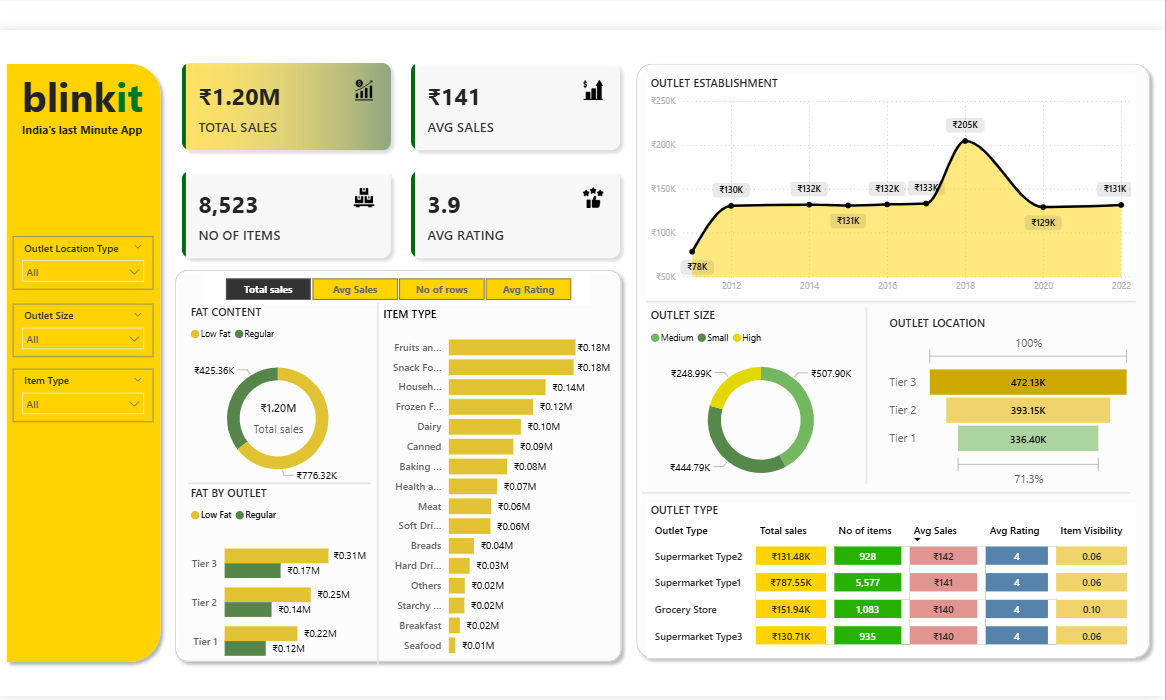

The page's visual inventory and layout, read from the dashboard file:
{"tool":"powerbi","page":{"name":"Page 1","canvas":[1400,800],"ordinal":0},"visuals":[{"type":"shape","box":[0,31.4,203.1,736.2],"z":0},{"type":"textbox","box":[23.2,42.3,169.1,94.1],"z":1000},{"type":"cardVisual","fields":{"Data":["BlinkIT Grocery Data.Total sales","BlinkIT Grocery Data.Avg Sales","BlinkIT Grocery Data.No of rows","BlinkIT Grocery Data.Avg Rating"]},"box":[203.1,21.8,561.7,269.9],"z":2000},{"type":"shape","box":[203.1,279.5,553.5,488.1],"z":3000},{"type":"donutChart","title":"FAT CONTENT","fields":{"Y":["BlinkIT Grocery Data.Total sales"],"Category":["BlinkIT Grocery Data.Item Fat Content"]},"box":[225,328.6,219.5,230.4],"z":4000},{"type":"slicer","fields":{"Values":["Metrics.Metrics"]},"box":[246.8,291.8,464.9,39.5],"z":5000},{"type":"cardVisual","fields":{"Data":["BlinkIT Grocery Data.Total sales"]},"box":[279.5,407.6,113.2,115.9],"z":6000},{"type":"clusteredBarChart","title":"FAT BY OUTLET","fields":{"Y":["BlinkIT Grocery Data.Total sales"],"Category":["BlinkIT Grocery Data.Outlet Location Type"],"Series":["BlinkIT Grocery Data.Item Fat Content"]},"box":[225,546.7,220.9,230.4],"z":7000},{"type":"shape","box":[227.1,534.3,220,20],"z":8000},{"type":"shape","box":[442.9,327.1,24.3,435.7],"z":9000},{"type":"barChart","title":"ITEM TYPE","fields":{"Y":["BlinkIT Grocery Data.Total sales"],"Category":["BlinkIT Grocery Data.Item Type"]},"box":[455.7,331.4,282.9,431.4],"z":10000},{"type":"shape","box":[755.7,31.4,634.3,731.4],"z":11000},{"type":"lineChart","title":"OUTLET ESTABLISHMENT","fields":{"Category":["BlinkIT Grocery Data.Outlet Establishment Year"],"Y":["BlinkIT Grocery Data.Total sales"]},"box":[777.1,54.3,587.1,270],"z":12000},{"type":"shape","box":[777.1,320,587.1,12.9],"z":13000},{"type":"donutChart","title":"OUTLET SIZE","fields":{"Y":["BlinkIT Grocery Data.Total sales"],"Category":["BlinkIT Grocery Data.Outlet Size"]},"box":[777.1,332.9,275,225],"z":14000},{"type":"shape","box":[1025.7,332.9,32.9,211.4],"z":15000},{"type":"funnel","title":"OUTLET LOCATION","fields":{"Y":["Sum(BlinkIT Grocery Data.Sales)"],"Category":["BlinkIT Grocery Data.Outlet Location Type"]},"box":[1064.3,342.9,300,211.4],"z":16000},{"type":"shape","box":[771.4,548.6,587.1,12.9],"z":17000},{"type":"pivotTable","title":"OUTLET TYPE","fields":{"Rows":["BlinkIT Grocery Data.Outlet Type"],"Values":["BlinkIT Grocery Data.Total sales","BlinkIT Grocery Data.No of rows","BlinkIT Grocery Data.Avg Sales","BlinkIT Grocery Data.Avg Rating","Avg(BlinkIT Grocery Data.Item Visibility)"]},"box":[777.1,567.1,587.1,187.1],"z":18000},{"type":"slicer","fields":{"Values":["BlinkIT Grocery Data.Outlet Location Type"]},"box":[17.1,247.1,168.6,64.3],"z":19000},{"type":"slicer","fields":{"Values":["BlinkIT Grocery Data.Outlet Size"]},"box":[17.1,328.6,168.6,64.3],"z":20000},{"type":"slicer","fields":{"Values":["BlinkIT Grocery Data.Item Type"]},"box":[17.1,407.1,168.6,64.3],"z":21000}]}

Visuals, with their boxes on the page's 1400x800 design canvas (x1, y1, x2, y2). These are canvas units, not pixel positions in the 1166x700 screenshot, which may show the page scaled, cropped or inside an application window:
shape: <box>0,31,203,768</box>
textbox: <box>23,42,192,136</box>
cardVisual - BlinkIT Grocery Data.Total sales x BlinkIT Grocery Data.Avg Sales: <box>203,22,765,292</box>
shape: <box>203,280,757,768</box>
"FAT CONTENT" donutChart: <box>225,329,444,559</box>
slicer - Metrics.Metrics: <box>247,292,712,331</box>
cardVisual - BlinkIT Grocery Data.Total sales: <box>280,408,393,524</box>
"FAT BY OUTLET" clusteredBarChart: <box>225,547,446,777</box>
shape: <box>227,534,447,554</box>
shape: <box>443,327,467,763</box>
"ITEM TYPE" barChart: <box>456,331,739,763</box>
shape: <box>756,31,1390,763</box>
"OUTLET ESTABLISHMENT" lineChart: <box>777,54,1364,324</box>
shape: <box>777,320,1364,333</box>
"OUTLET SIZE" donutChart: <box>777,333,1052,558</box>
shape: <box>1026,333,1059,544</box>
"OUTLET LOCATION" funnel: <box>1064,343,1364,554</box>
shape: <box>771,549,1358,562</box>
"OUTLET TYPE" pivotTable: <box>777,567,1364,754</box>
slicer - BlinkIT Grocery Data.Outlet Location Type: <box>17,247,186,311</box>
slicer - BlinkIT Grocery Data.Outlet Size: <box>17,329,186,393</box>
slicer - BlinkIT Grocery Data.Item Type: <box>17,407,186,471</box>
